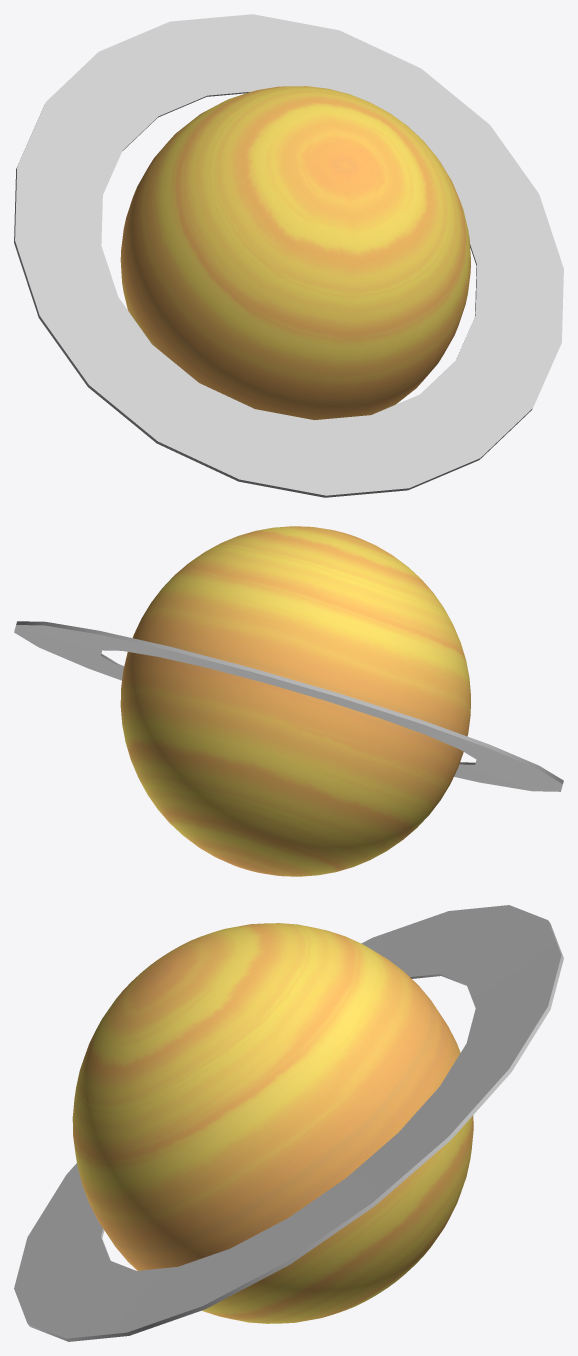
File: Saturn.fbx
The picture shows the model from 3 angles, top to bottom: view 1: azimuth 30°, elevation 25°; view 2: azimuth 150°, elevation 25°; view 3: azimuth 270°, elevation 25°; orthographic projection. The views are drawn at different scales.
Visible parts, largest first — view 1: pPipe1, pSphere1; view 2: pSphere1, pPipe1; view 3: pSphere1, pPipe1.
Boxes of the visible parts, x1,y1,x2,y2 form: pPipe1: [14, 14, 563, 497]; pSphere1: [120, 86, 470, 419]; pSphere1: [120, 526, 470, 876]; pPipe1: [14, 621, 563, 791]; pSphere1: [72, 923, 473, 1323]; pPipe1: [14, 905, 563, 1341].
Bounding box in the file's own units: 28.94 × 17.59 × 24.12.
